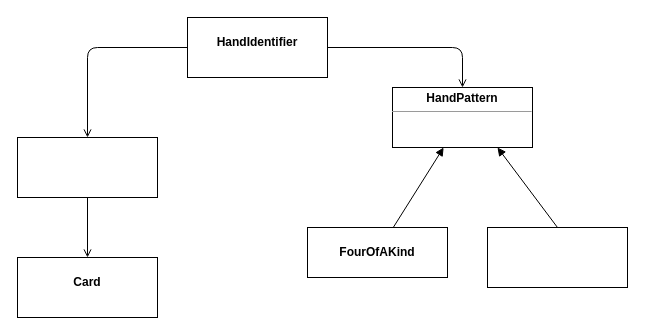
Image size: 645x335. Some labels were removed from this diagram. The centre of each missing label's shape, as x and y in pixels:
"PokerHand" belongs at point (87, 167).
"StraightFlush" belongs at point (557, 257).
